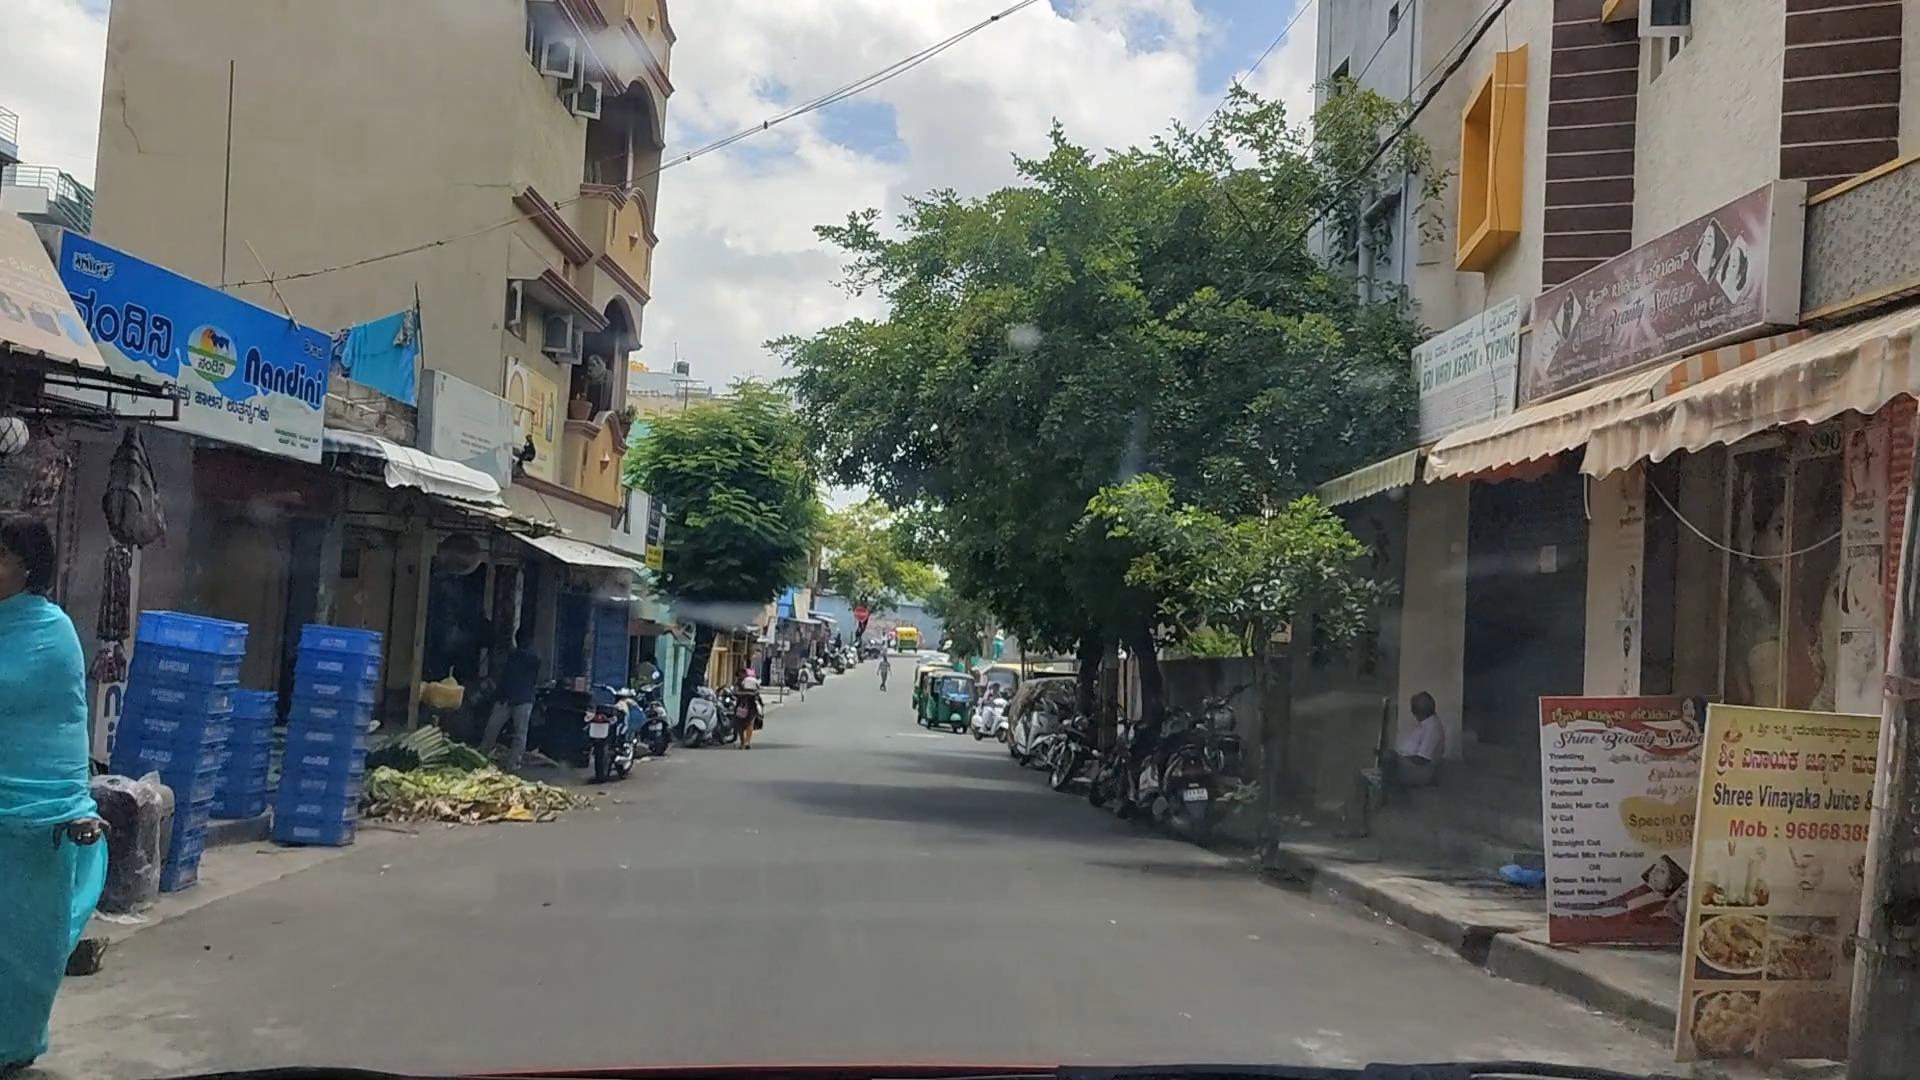LMV: (580, 679, 638, 782), (919, 671, 975, 735), (981, 680, 1005, 744)
